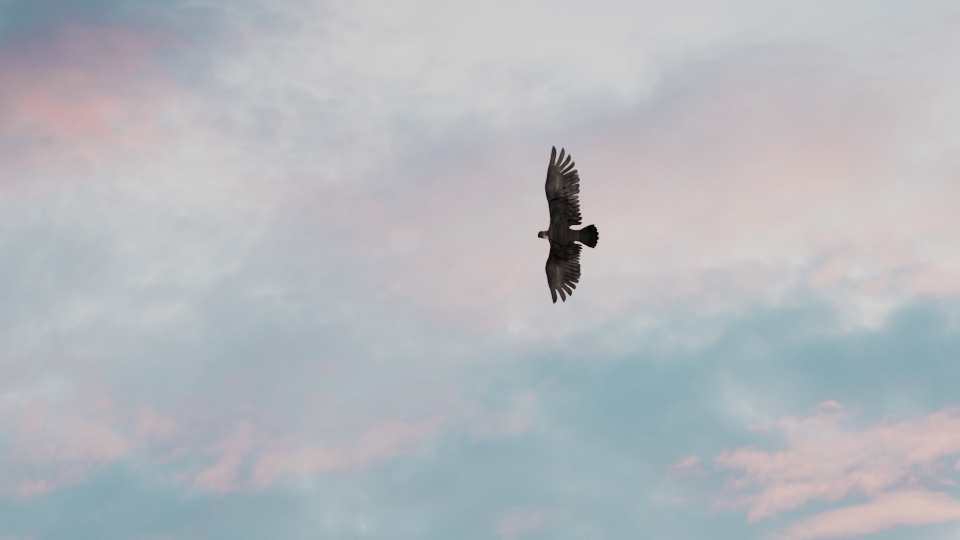bird: (537, 146, 599, 302)
